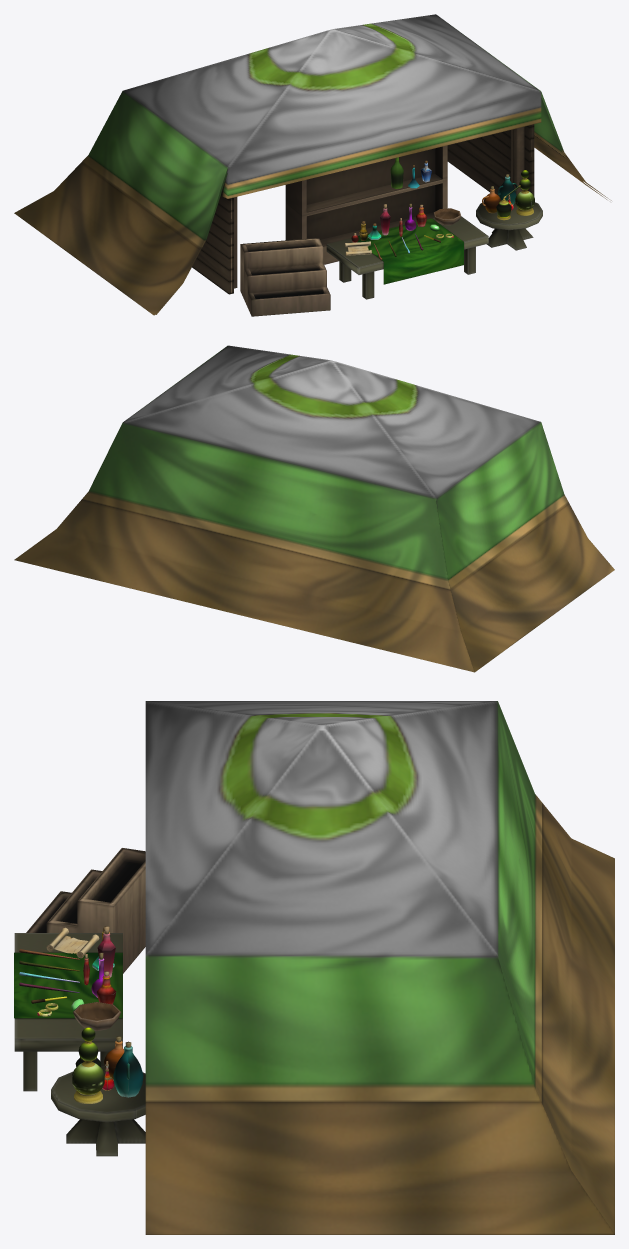
Rendered from stall_magic_atlas.fbx.
3 views of the same model, one above another, from view 1: azimuth 30°, elevation 25°; view 2: azimuth 150°, elevation 25°; view 3: azimuth 270°, elevation 25° (orthographic). The views are drawn at different scales.
Parts seen in each view (by area): view 1: Magic_tent, Magic_shelf_1, Magic_table, Magic_shelf_2, Magic_round_table, Alembic; view 2: Magic_tent; view 3: Magic_tent, Magic_table, Magic_shelf_2, Magic_round_table, Alembic, Potion_8, Potion_9, Scroll2.
Part boxes in pixels (<box>): Magic_tent: <box>14,14,611,315</box>; Magic_shelf_1: <box>285,145,447,264</box>; Magic_table: <box>326,216,488,299</box>; Magic_shelf_2: <box>240,238,330,316</box>; Magic_round_table: <box>476,202,542,250</box>; Alembic: <box>496,170,534,220</box>; Magic_tent: <box>14,345,614,672</box>; Magic_tent: <box>145,701,614,1234</box>; Magic_table: <box>14,933,122,1091</box>; Magic_shelf_2: <box>26,848,145,973</box>; Magic_round_table: <box>51,1066,145,1156</box>; Alembic: <box>72,1027,104,1103</box>; Potion_8: <box>113,1041,143,1097</box>; Potion_9: <box>73,1002,120,1030</box>; Scroll2: <box>46,927,99,958</box>.
Bounding box in the file's own units: 10.22 × 4.04 × 6.89.
